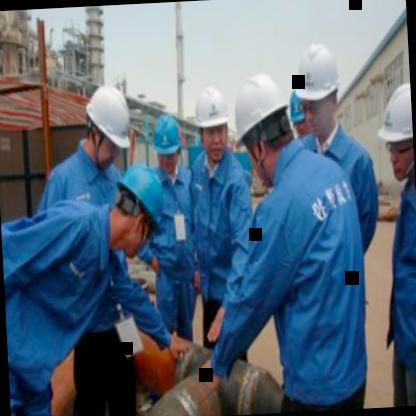helmet: (234, 62, 294, 174), (289, 30, 344, 142), (106, 164, 169, 252), (76, 84, 130, 175), (374, 77, 414, 179), (190, 78, 232, 162), (151, 112, 184, 176)
